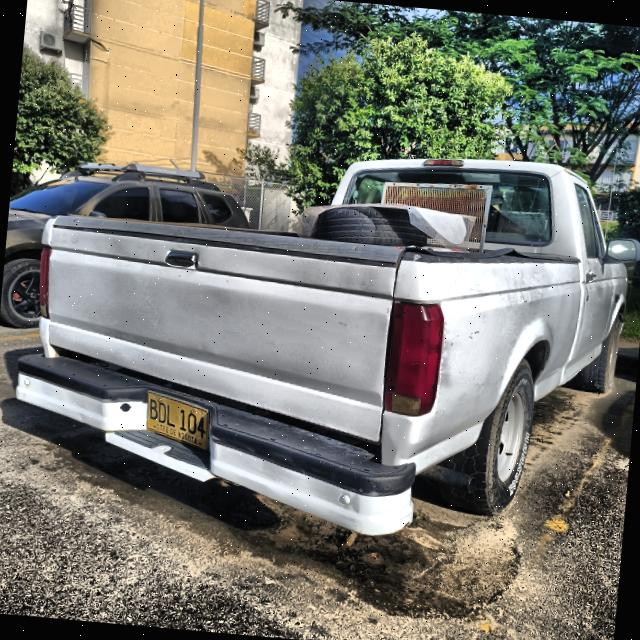0: (187, 410, 197, 435)
1: (179, 407, 187, 432)
4: (196, 414, 206, 439)
B: (148, 398, 157, 421)
D: (157, 401, 166, 424)
L: (166, 403, 175, 428)
